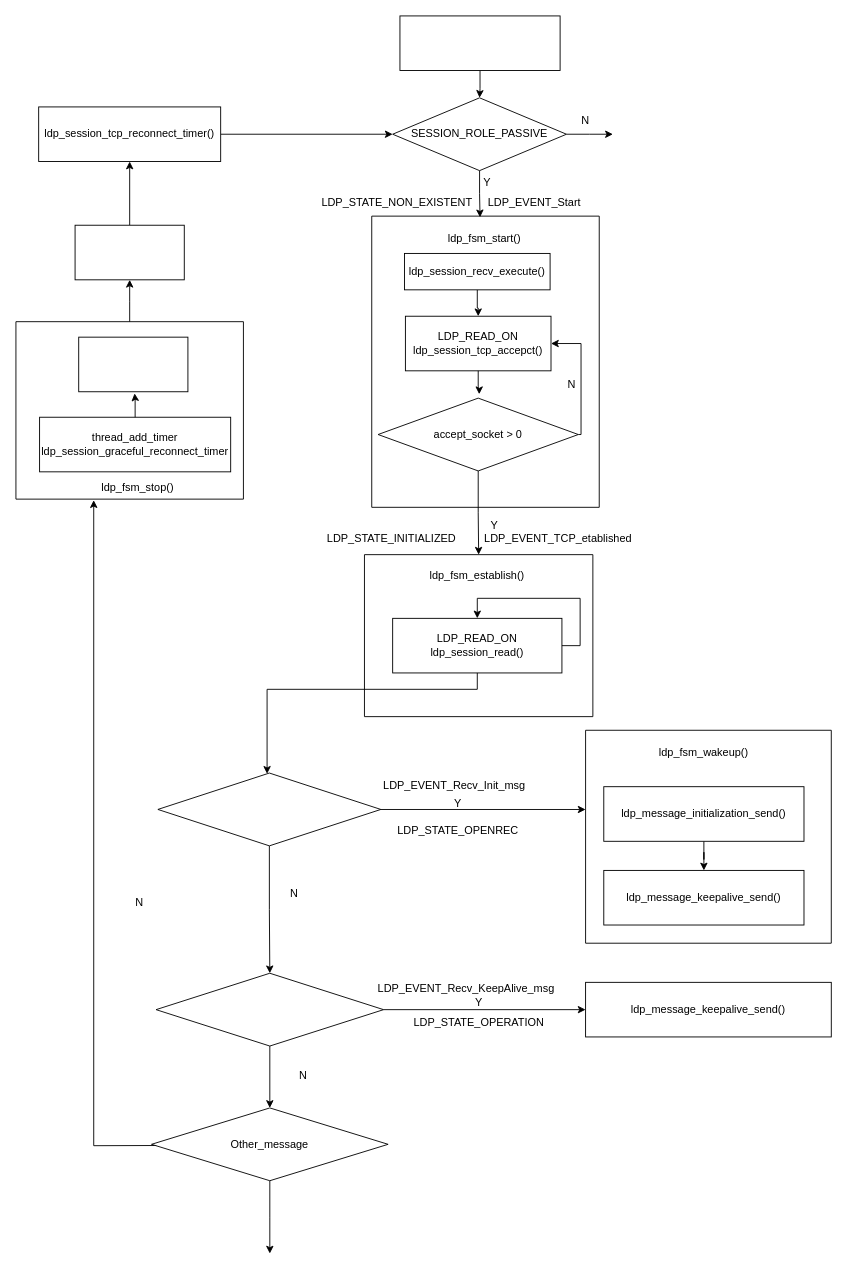
Image size: 847x1277. Some labels were removed from this diagram. The shapes that lost their labels are listed below. From the top down, each one's centre as x and y in pixels, then its label:
(x=479, y=43): ldp_session_configure_role()
(x=129, y=252): ldp_session_clean()
(x=133, y=364): ldp_session_restart()
(x=269, y=809): ldp_message_initialization_recv()
(x=269, y=1009): ldp_message_keepalive_recv()
